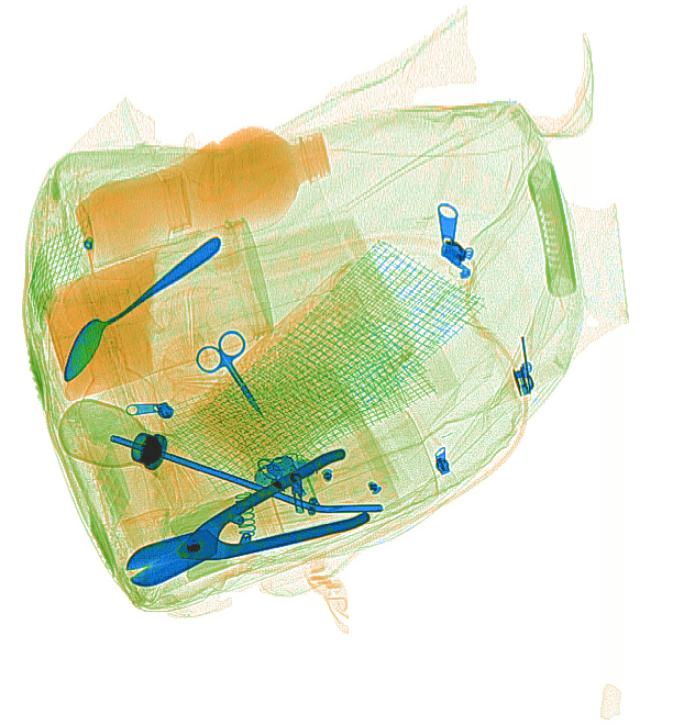scissors: (123, 448, 372, 590), (192, 327, 268, 421)
